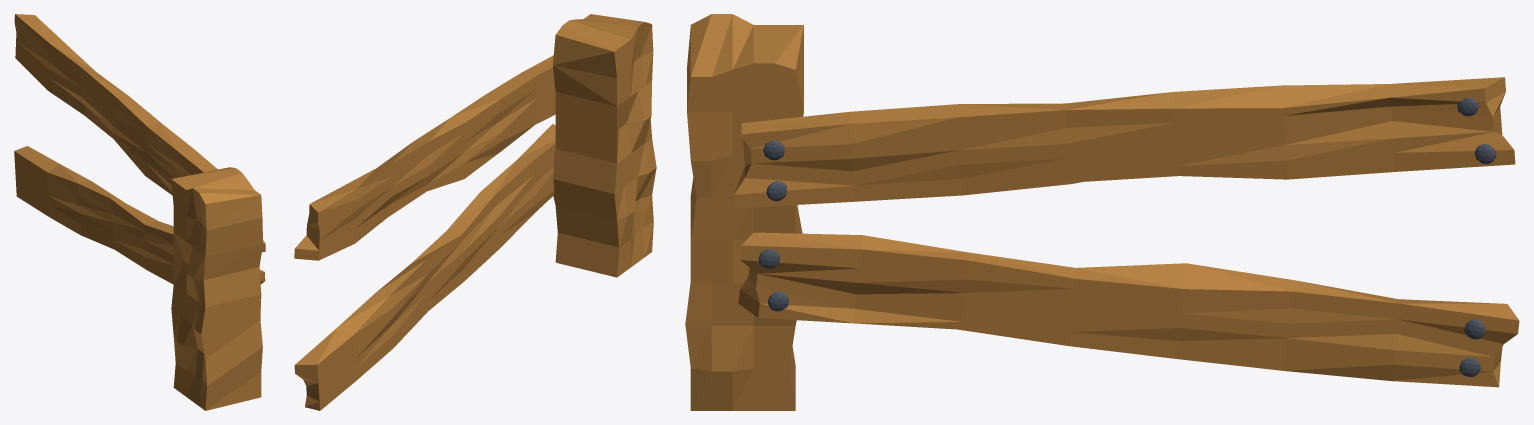
The model's file is C_WoodFence.fbx.
3 views of the same model, side by side, from view 1: azimuth 30°, elevation 25°; view 2: azimuth 150°, elevation 25°; view 3: azimuth 270°, elevation 25° (orthographic). The views are drawn at different scales.
Visible parts, largest first — view 1: Cube; view 2: Cube; view 3: Cube.
Boxes of the visible parts, <box> form: Cube: <box>14,14,265,410</box>; Cube: <box>294,14,656,410</box>; Cube: <box>685,14,1519,410</box>.
Bounding box in the file's own units: 83.38 × 206 × 443.
